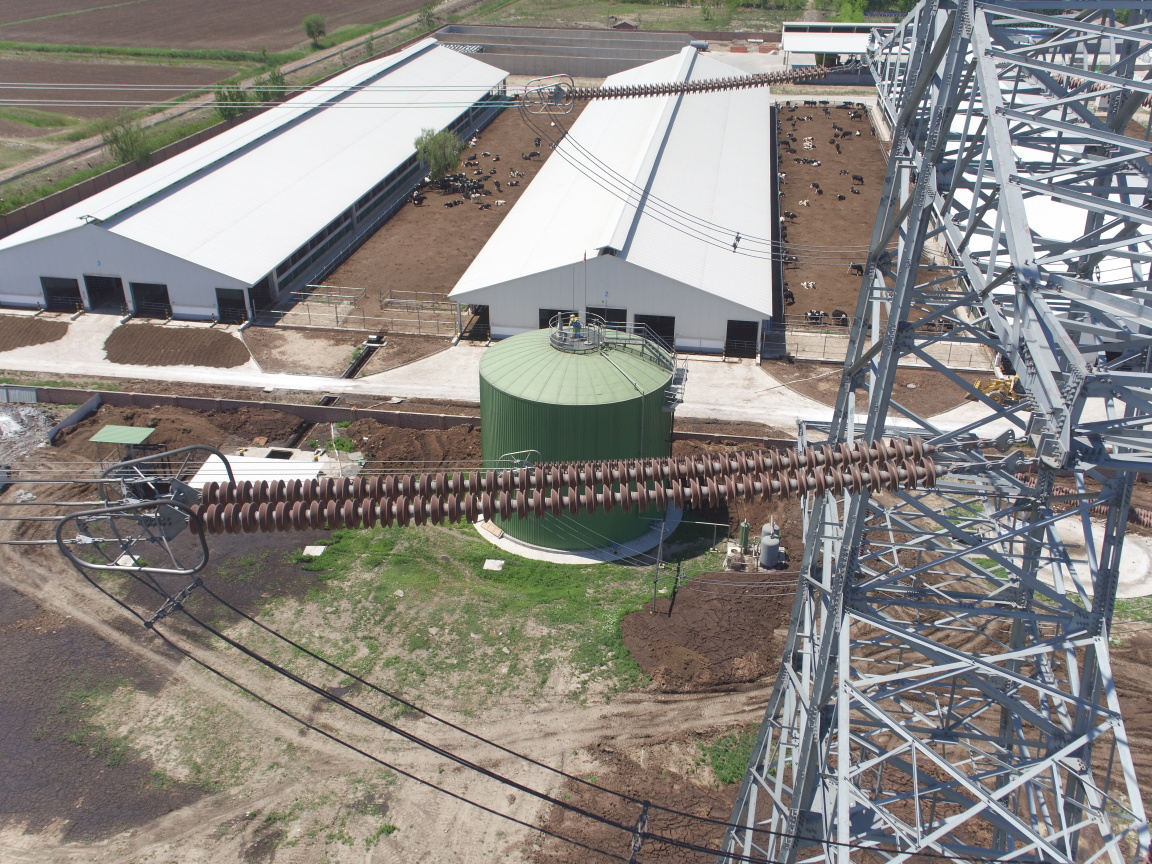insulator: (173, 433, 986, 538)
